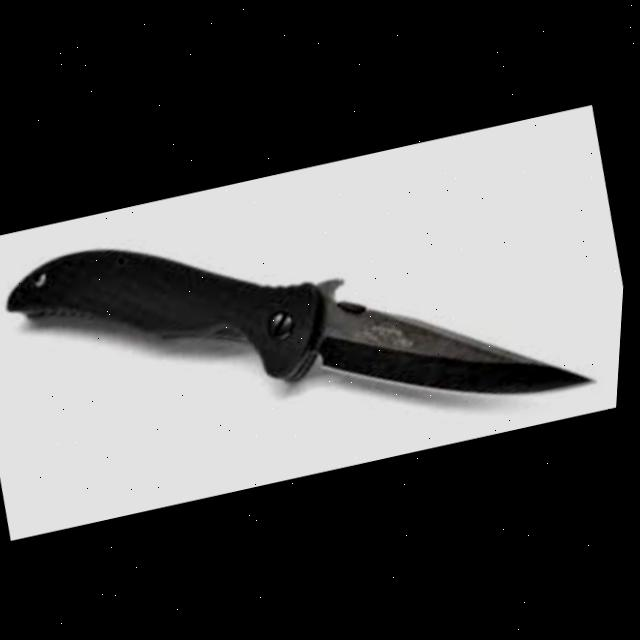knife: (0, 138, 614, 507)
